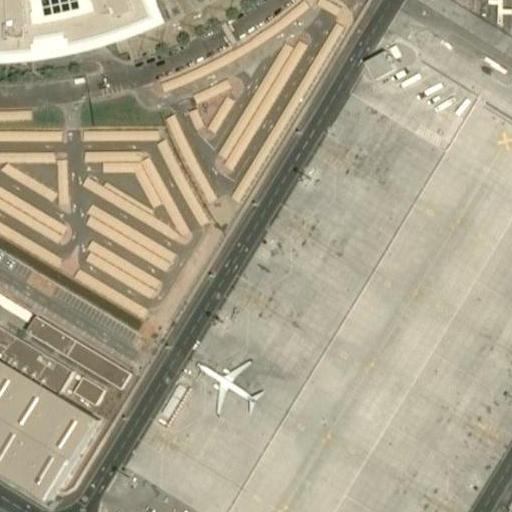Aircraft: (195, 351, 263, 414)
